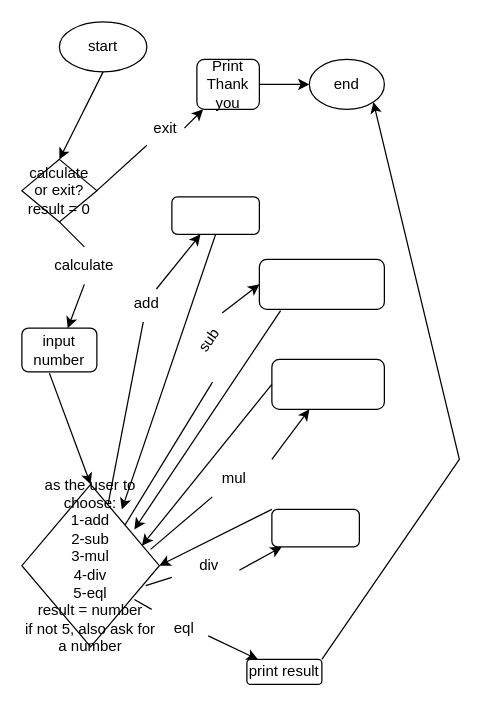
Image size: 491x706. Some labels were removed from this diagram. Here are the shapes that lost their labels. From the top down, the centre of each, then its label:
the point at 215,215: result = number + result
the point at 321,283: result = result - number
the point at 327,383: result = result * number
the point at 315,527: result = result / div
